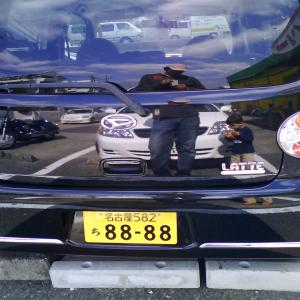Vehicle-registration-plate: (61, 205, 194, 254)
